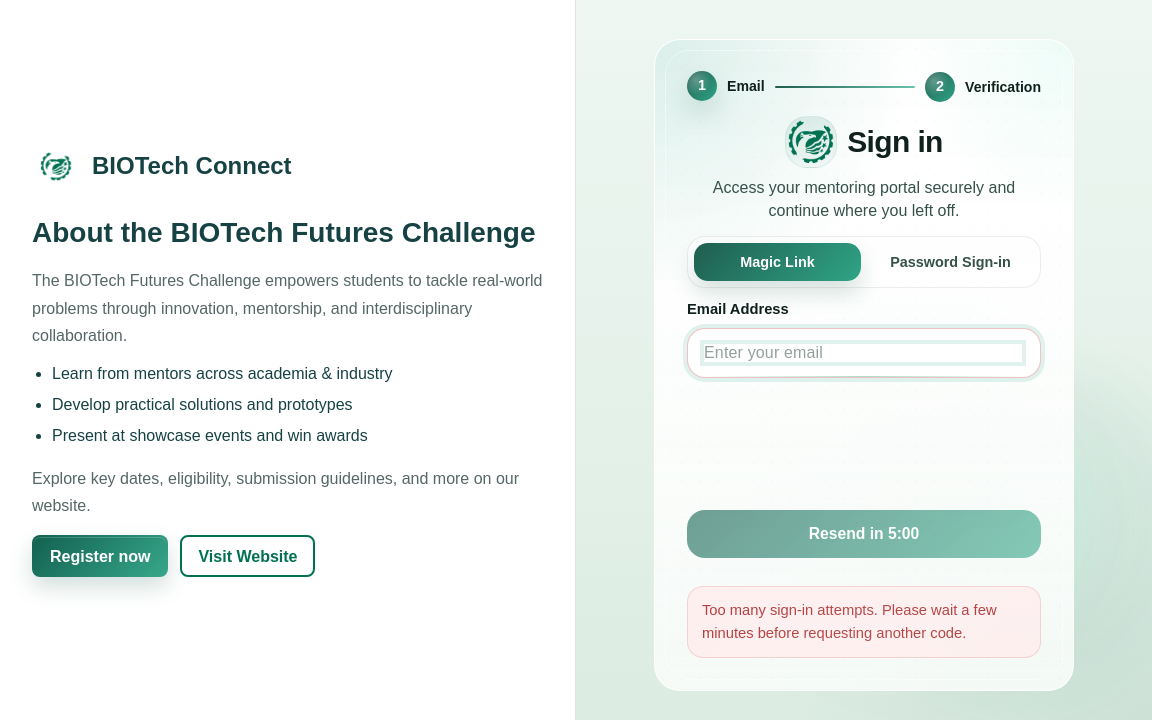
magic-link error copy › still blocks a fresh code request while the cooldown runs
Click the tab with class "login-mode-button" showing "Password Sign-in".
click(950, 262)  # box [867,243,1034,281]
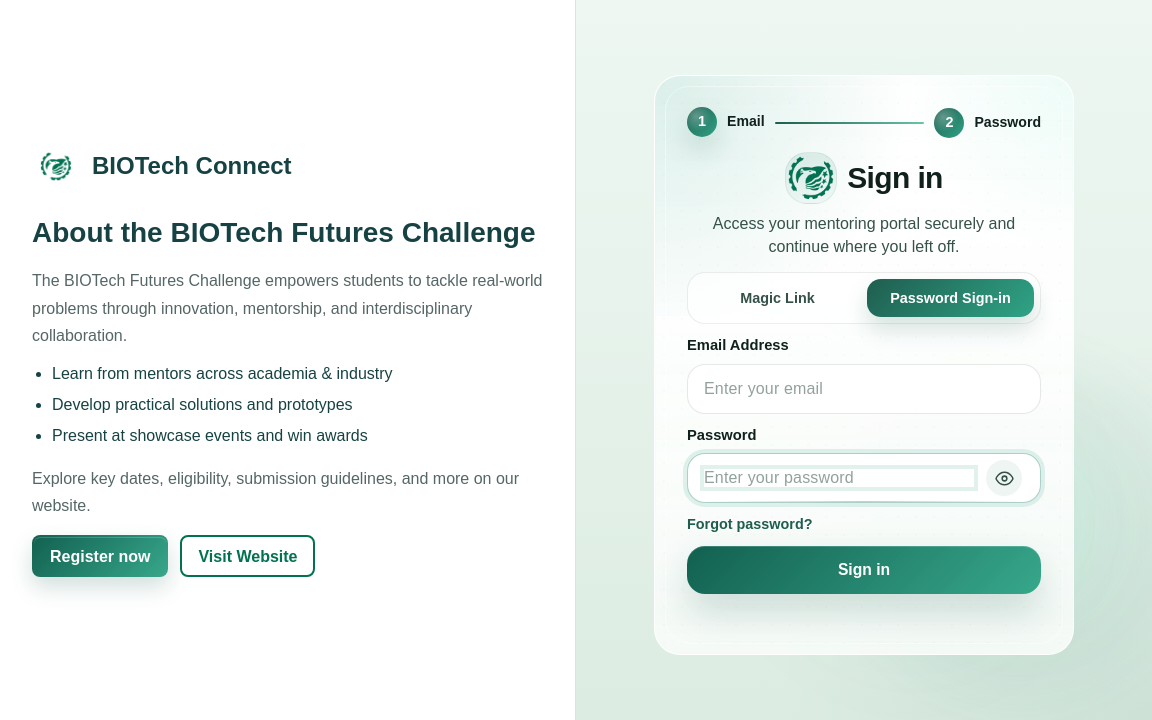
Click the tab with class "login-mode-button" showing "Magic Link".
click(778, 298)  # box [694,279,861,317]
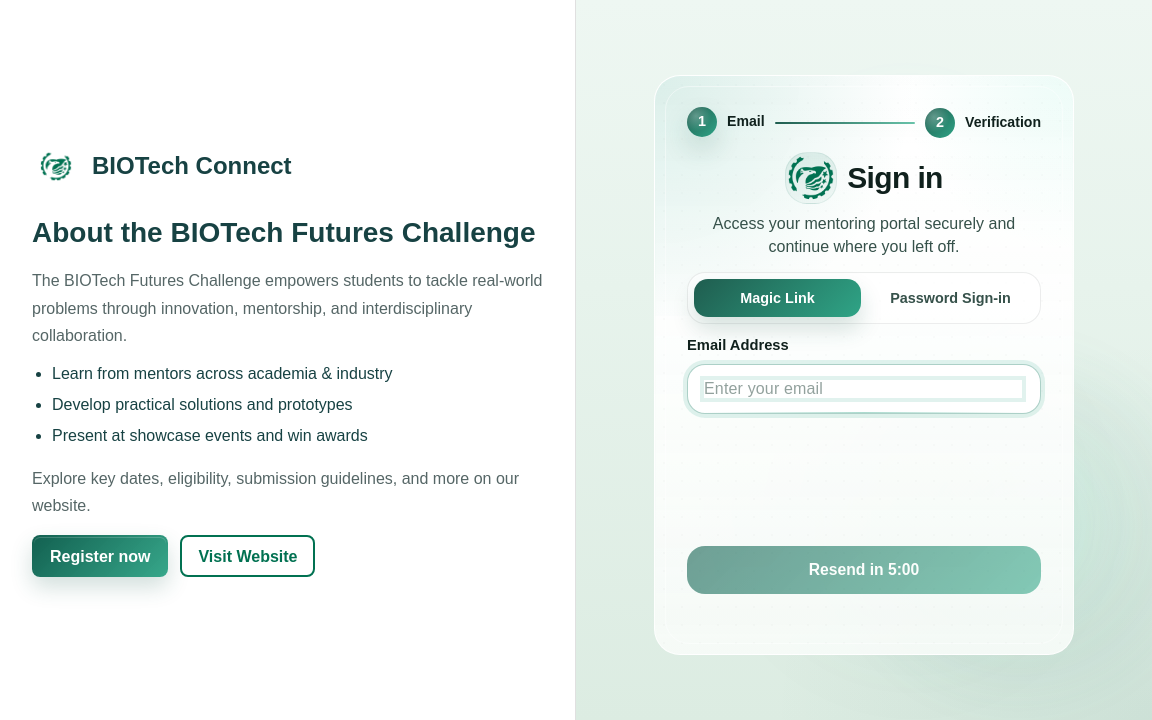
Check: the button "Resend in 5:00" is disabled, box [687,546,1041,594]
Check: the button "Resend in 5:00" is shown, box [687,546,1041,594]
